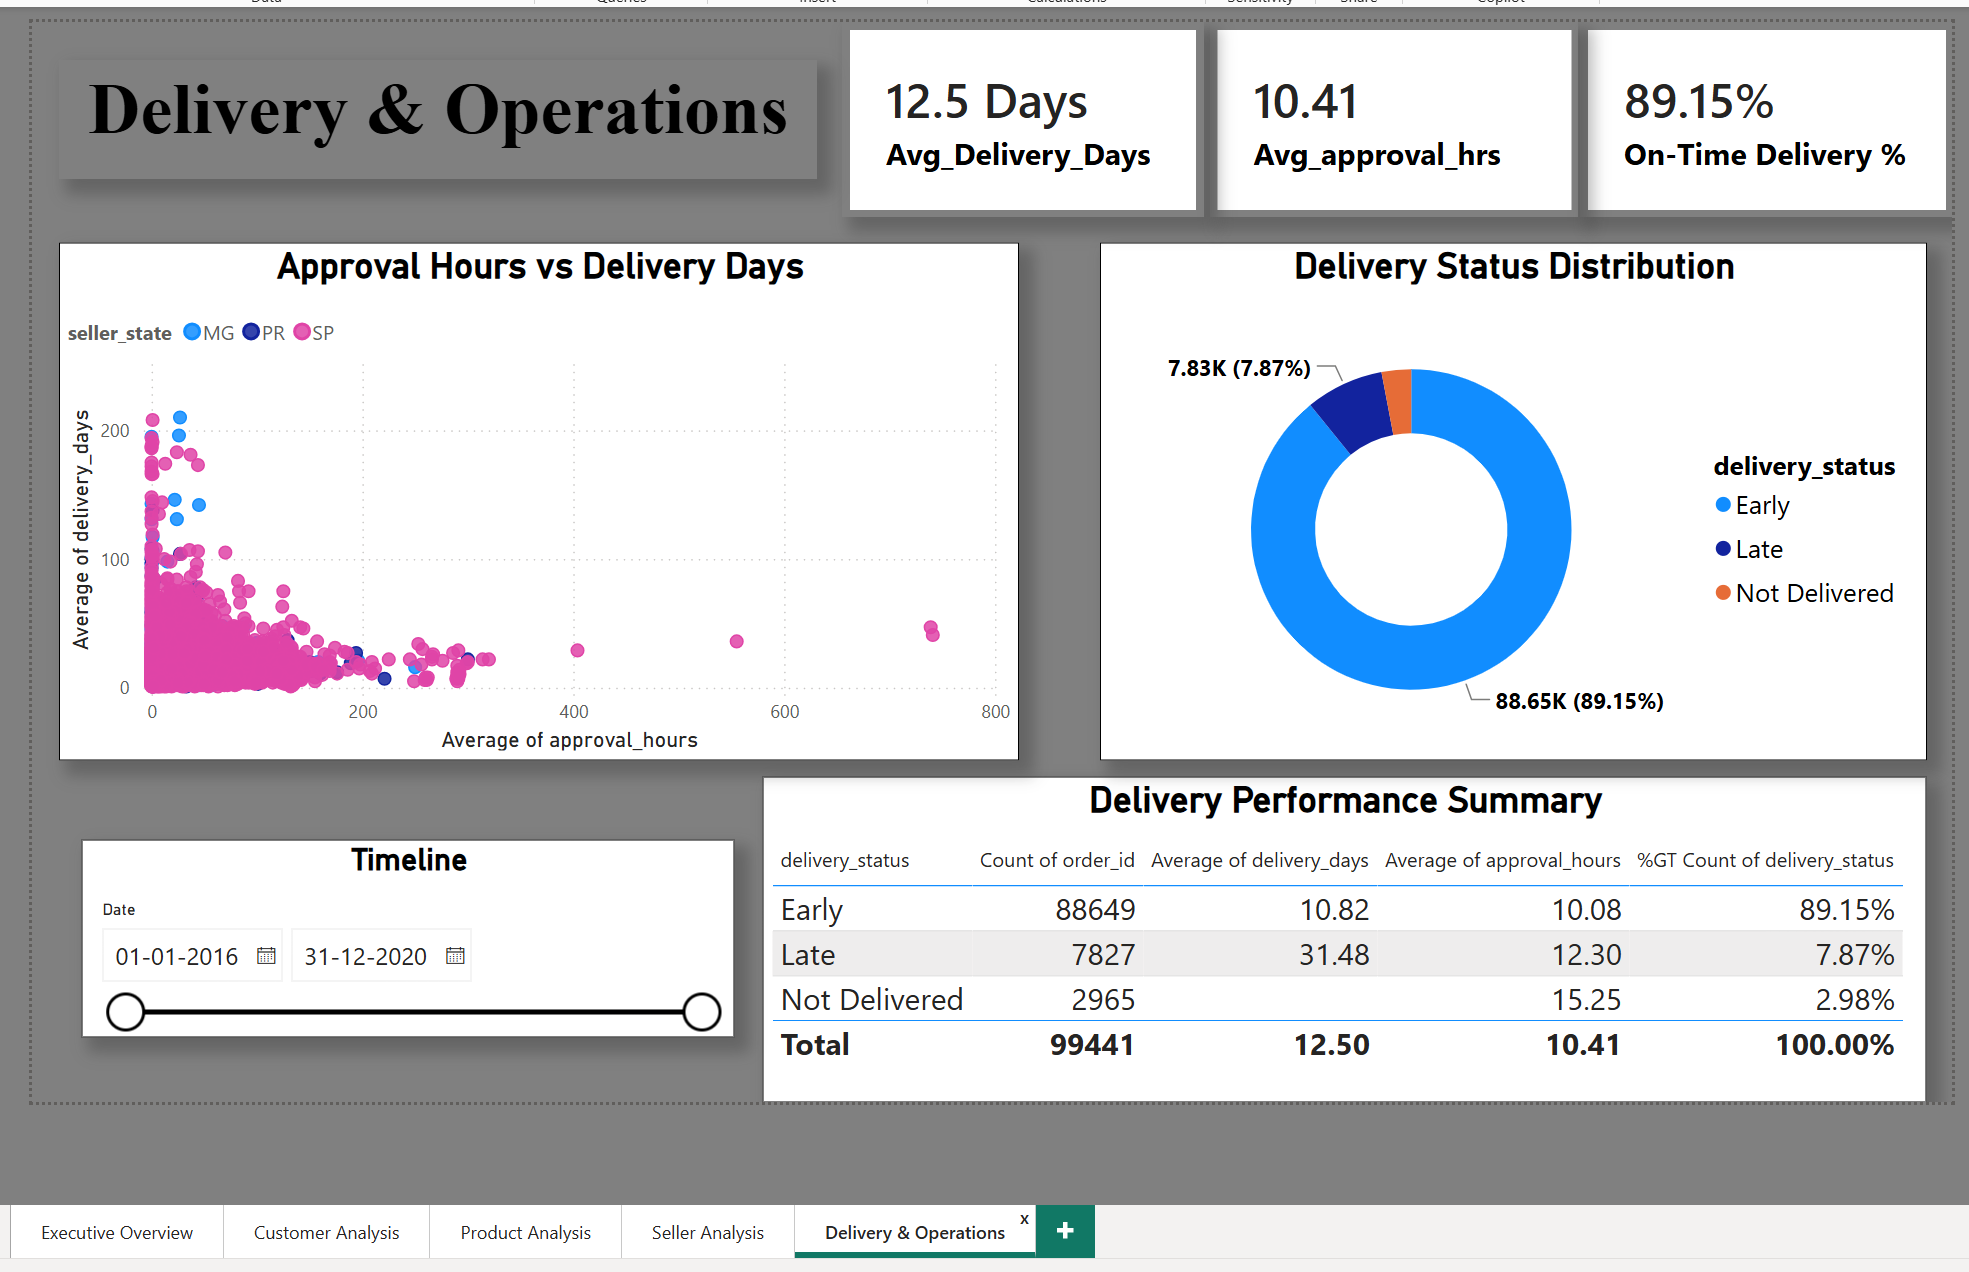

This screenshot's page, from the dashboard's own definition file:
{"tool":"powerbi","page":{"name":"Delivery & Operations","canvas":[1280,720],"ordinal":4},"visuals":[{"type":"tableEx","title":"Delivery Performance Summary","fields":{"Values":["GOLD dim_orders.delivery_status","GOLD dim_orders.order_id","Avg(GOLD dim_orders.delivery_days)","Avg(GOLD dim_orders.approval_hours)","Count(GOLD dim_orders.delivery_status)"]},"box":[486.7,503.3,776.7,216.7],"z":0},{"type":"textbox","box":[18.3,25,505,80],"z":1000},{"type":"donutChart","title":"Delivery Status Distribution","fields":{"Category":["GOLD dim_orders.delivery_status"],"Y":["CountNonNull(GOLD dim_orders.order_id)"]},"box":[711.7,146.7,551.7,345],"z":2000},{"type":"cardVisual","fields":{"Data":["new_measure.On-Time Delivery %"]},"box":[1031.7,0,249,130],"z":3000},{"type":"cardVisual","fields":{"Data":["new_measure.Avg_approval_hours"]},"box":[785,0,246,130],"z":4000},{"type":"cardVisual","fields":{"Data":["new_measure.Avg_Delivery_Days"]},"box":[540,0,241.1,130],"z":5000},{"type":"scatterChart","title":"Approval Hours vs Delivery Days","fields":{"Category":["GOLD dim_orders.order_id"],"Series":["GOLD dim_sellers.seller_state"],"X":["Avg(GOLD dim_orders.approval_hours)"],"Y":["Avg(GOLD dim_orders.delivery_days)"]},"box":[18.3,146.7,640,345],"z":5001},{"type":"slicer","title":"Timeline","fields":{"Values":["dim_date.Date"]},"box":[33.3,545,435,131.7],"z":5002}]}

Visuals, with their boxes on the page's 1280x720 design canvas (x1, y1, x2, y2). These are canvas units, not pixel positions in the 1969x1272 screenshot, which may show the page scaled, cropped or inside an application window:
"Delivery Performance Summary" tableEx: pyautogui.locateOnScreen(487, 503, 1263, 720)
textbox: pyautogui.locateOnScreen(18, 25, 523, 105)
"Delivery Status Distribution" donutChart: pyautogui.locateOnScreen(712, 147, 1263, 492)
cardVisual - new_measure.On-Time Delivery %: pyautogui.locateOnScreen(1032, 0, 1281, 130)
cardVisual - new_measure.Avg_approval_hours: pyautogui.locateOnScreen(785, 0, 1031, 130)
cardVisual - new_measure.Avg_Delivery_Days: pyautogui.locateOnScreen(540, 0, 781, 130)
"Approval Hours vs Delivery Days" scatterChart: pyautogui.locateOnScreen(18, 147, 658, 492)
"Timeline" slicer: pyautogui.locateOnScreen(33, 545, 468, 677)
